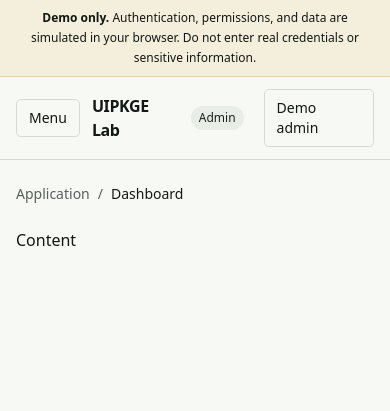
it: AppShell › exposes mobile navigation state and admin-only links
Click the button "Menu": click(48, 118) [16, 99, 80, 137]
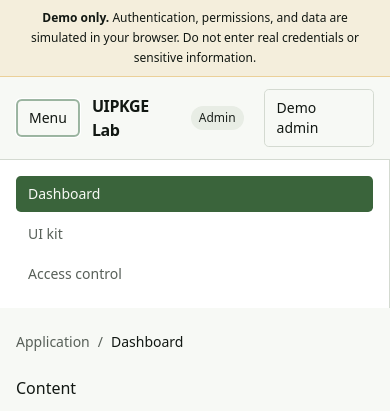
Result: the link "Access control" is shown at [28, 264, 122, 283]
